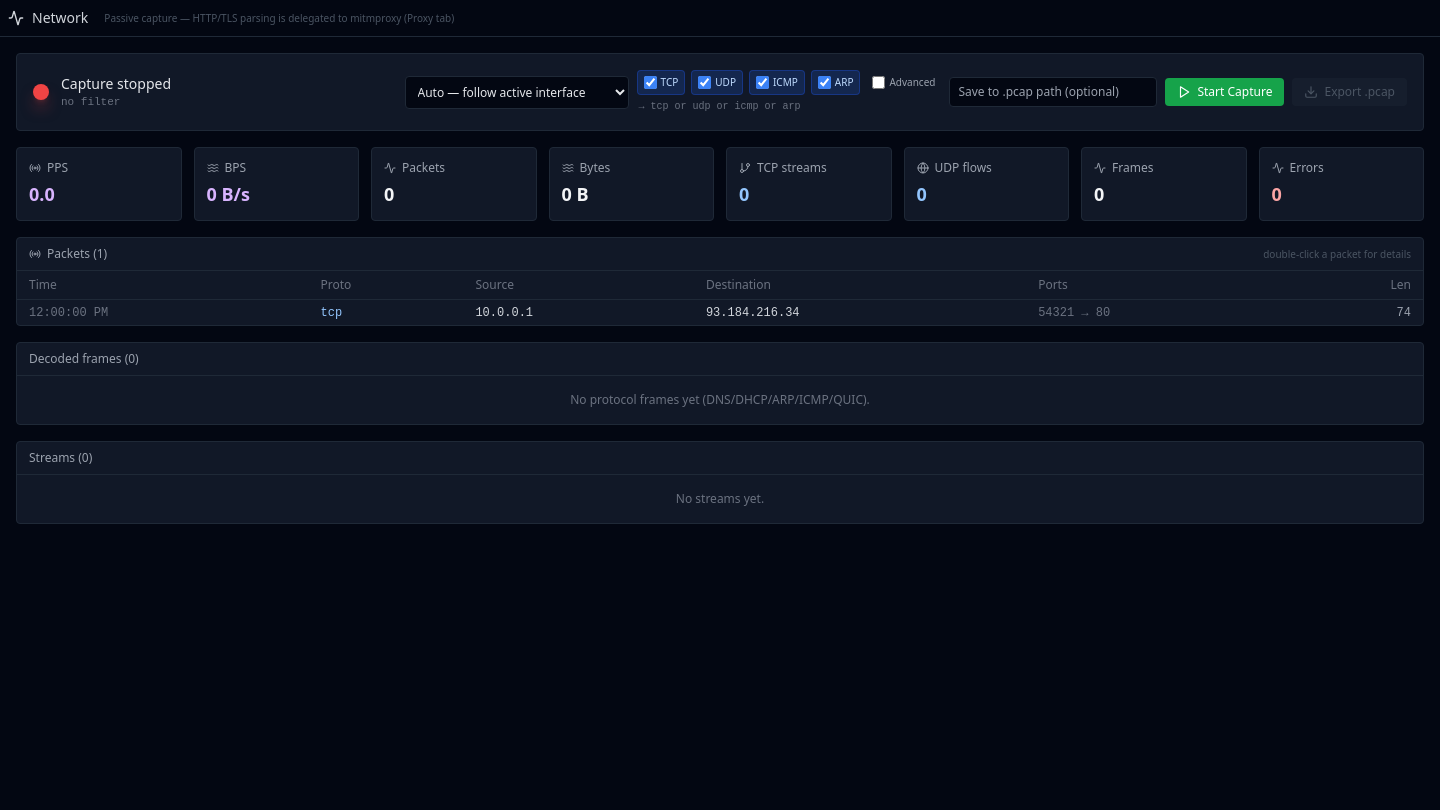
Network — packet detail (double-click, Wireshark-style) › double-clicking a packet row fetches and renders the layer tree
Double-click the text "10.0.0.1".
double_click(720, 312)  # box [17,300,1423,325]
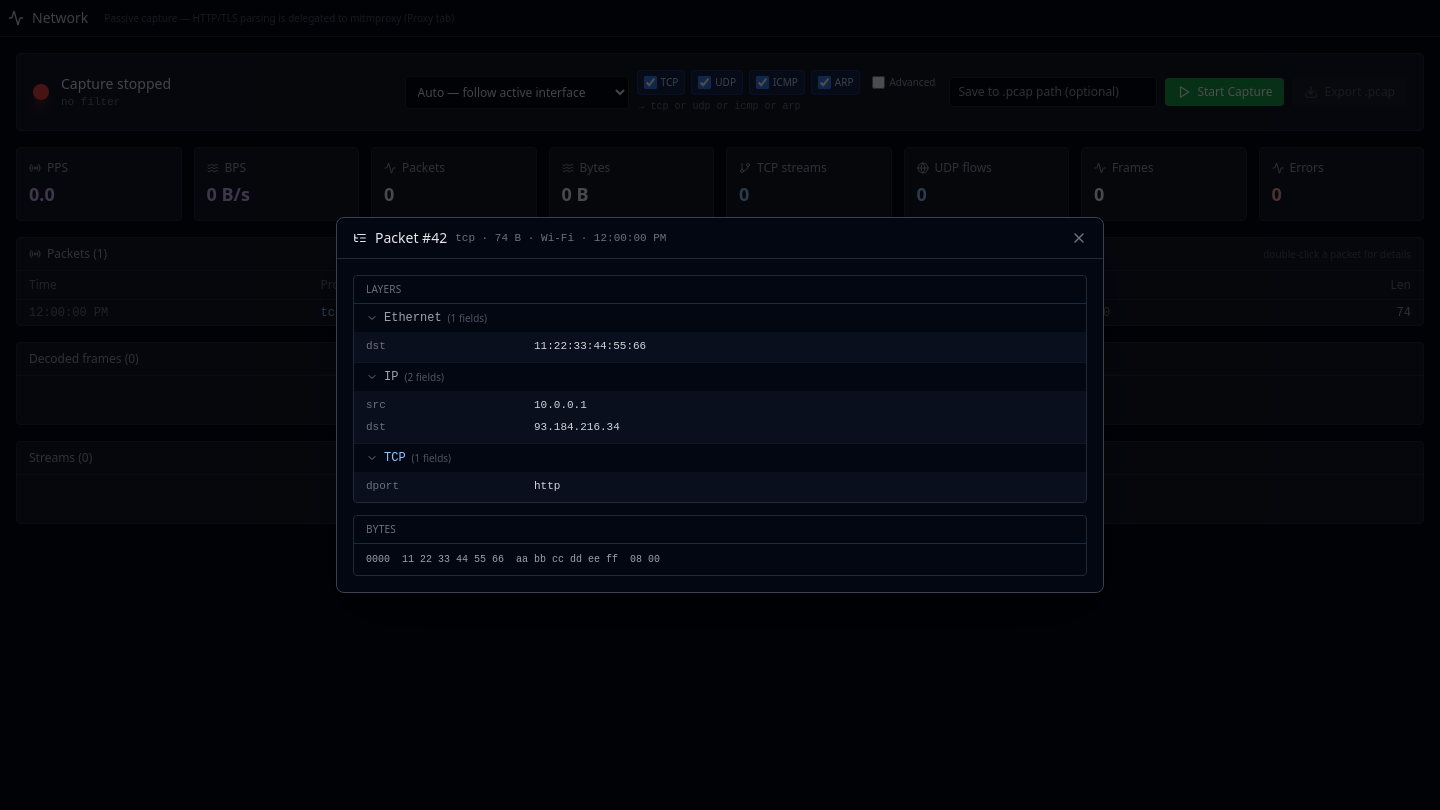
Result: the text "Packet #42 tcp · 74 B · Wi-Fi · 12:00:00 PM" is shown at [353,228,666,248]
Result: the text "Ethernet" is shown at [384,310,442,326]
Result: the text "IP" is shown at [384,369,398,385]
Collapsing a layer hides its fields.
Click the text "TCP".
click(395, 458)  # box [384,450,406,466]
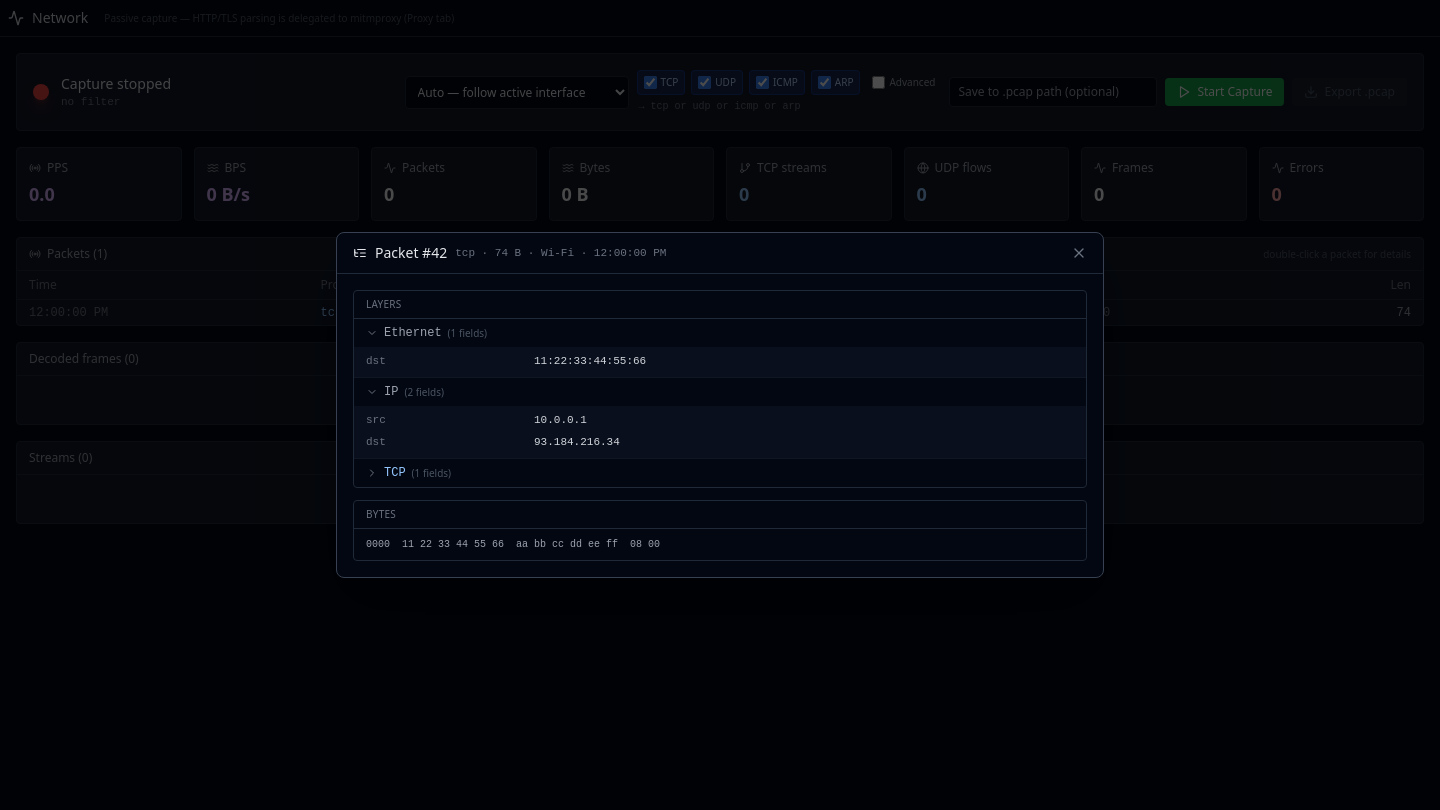
Close button dismisses the modal.
Click the button named "Close packet detail".
click(1079, 253)  # box [1071,245,1087,261]
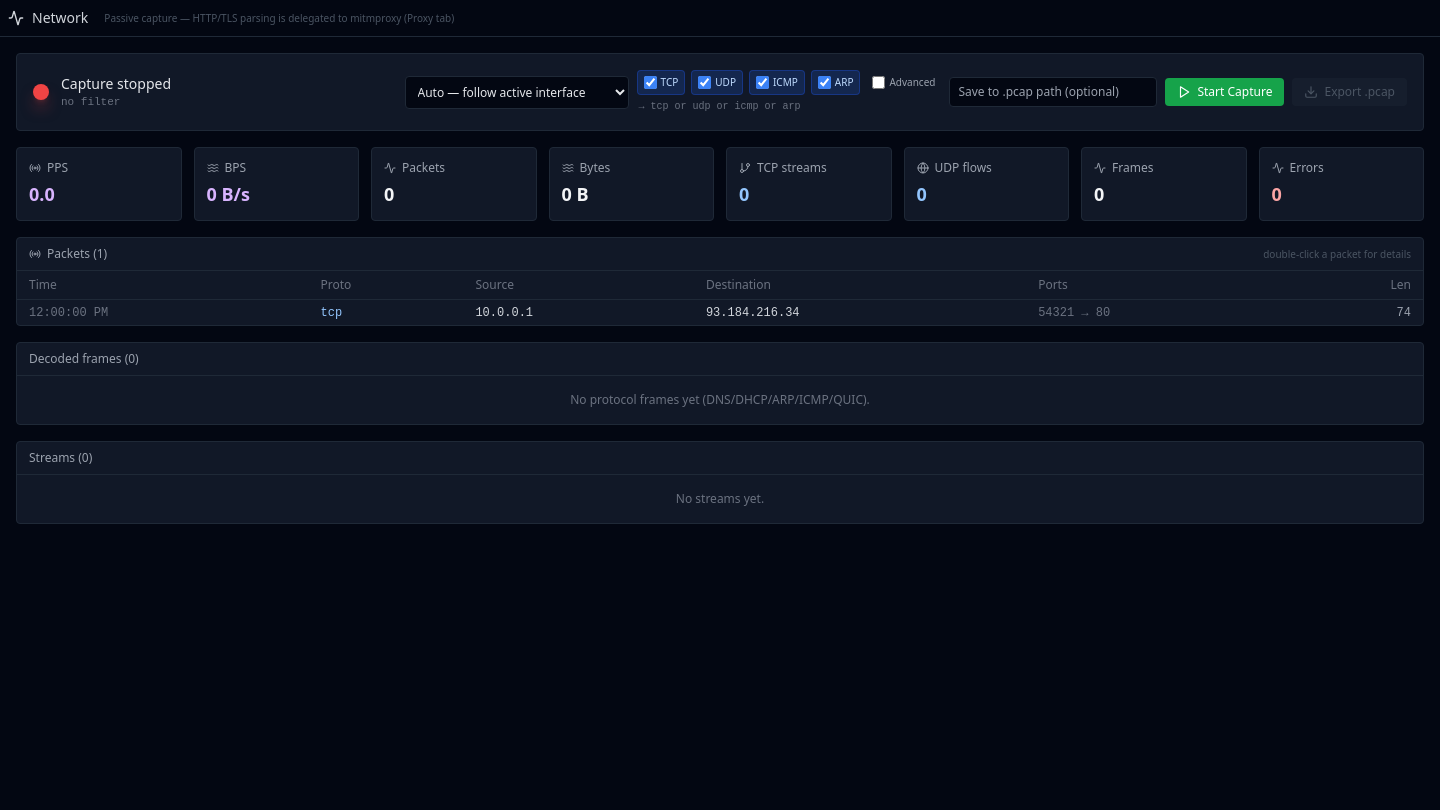
Result: the text "Packet #42" is gone
